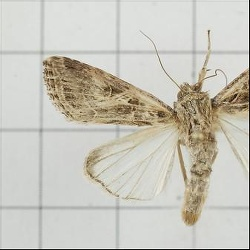Spodoptera litura: (42, 29, 250, 227)
